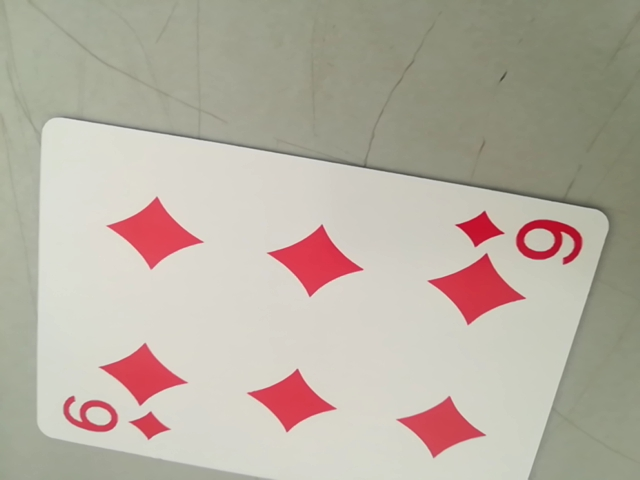fk 6: (454, 209, 587, 264), (53, 393, 176, 447)
